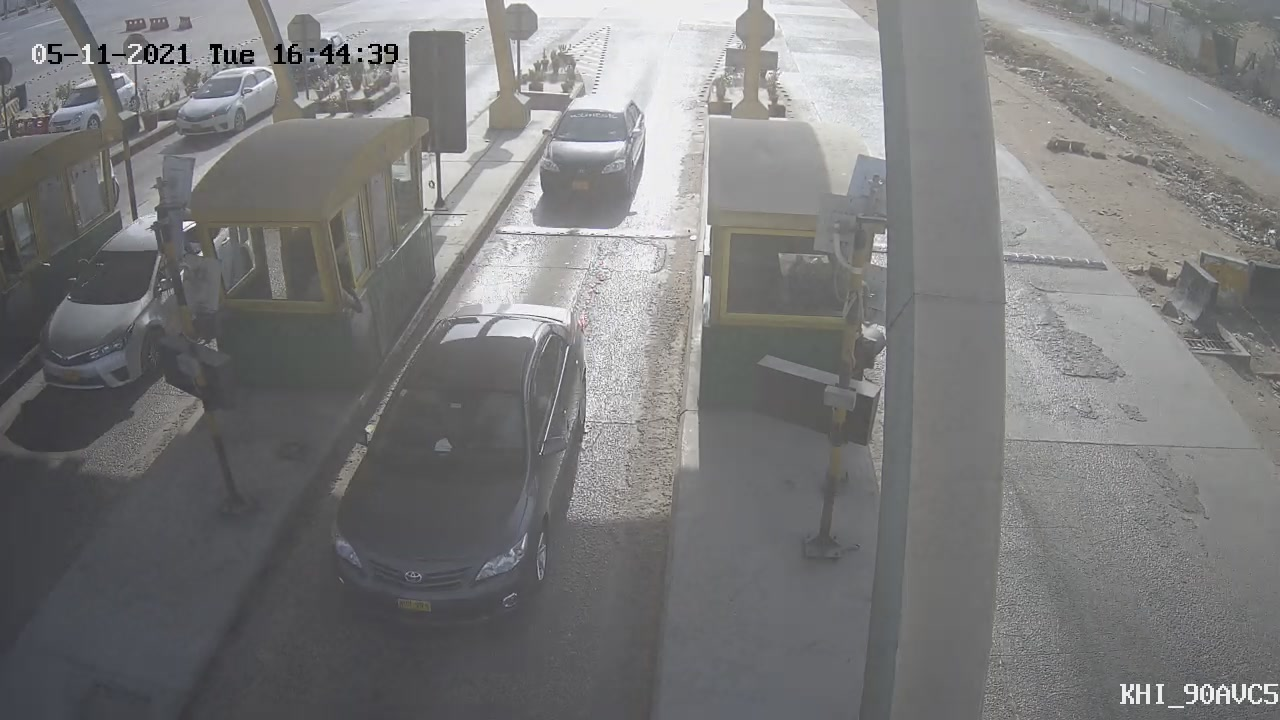F1: (520, 77, 661, 233)
